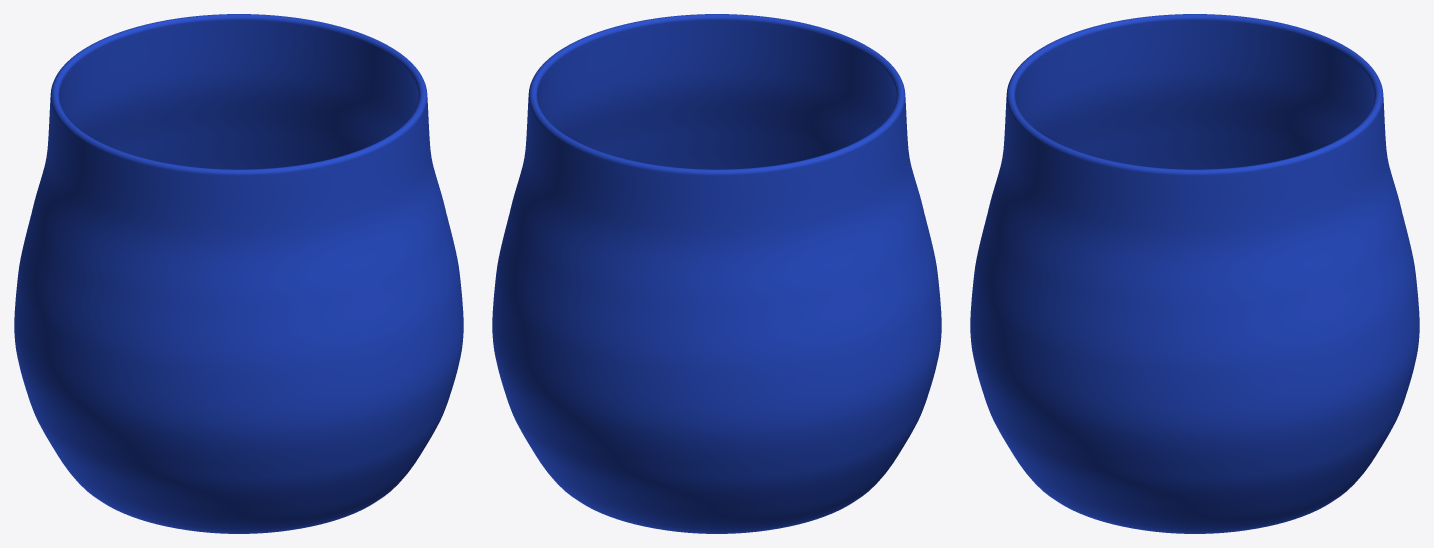
Rendered from loop-shaped-cobalt.glb.
The picture shows the model from 3 angles, left to right: view 1: azimuth 30°, elevation 25°; view 2: azimuth 150°, elevation 25°; view 3: azimuth 270°, elevation 25°; orthographic projection.
Visible parts, largest first — view 1: Loop open rounded pot; view 2: Loop open rounded pot; view 3: Loop open rounded pot.
Part boxes in pixels (bbox=[...]): Loop open rounded pot: bbox=[14, 14, 463, 533]; Loop open rounded pot: bbox=[492, 14, 941, 533]; Loop open rounded pot: bbox=[970, 14, 1419, 533].
Size of the model in its own units: 0.13 by 0.12 by 0.13.
